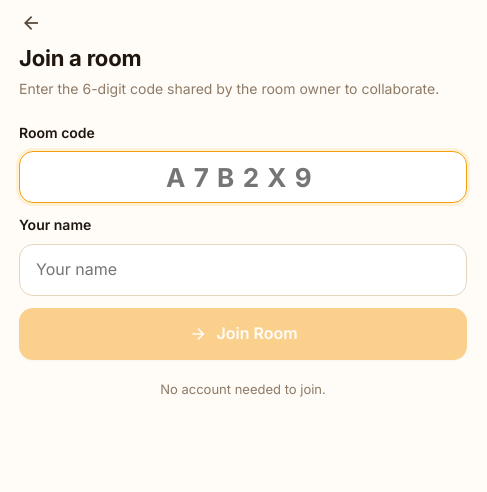
it: Anda MVP journey (§57) › rejects an unknown room code with plain copy, never a raw error (§14, §39)
Type "ZZZZZZ" into the field labelled "Room code" at x=243, y=178, box [19,152,467,204]
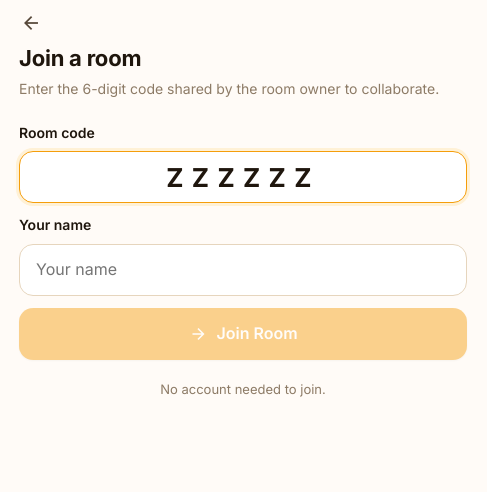
Type "Nobody" into the field labelled "Your name" at x=243, y=270, box [19,244,467,296]
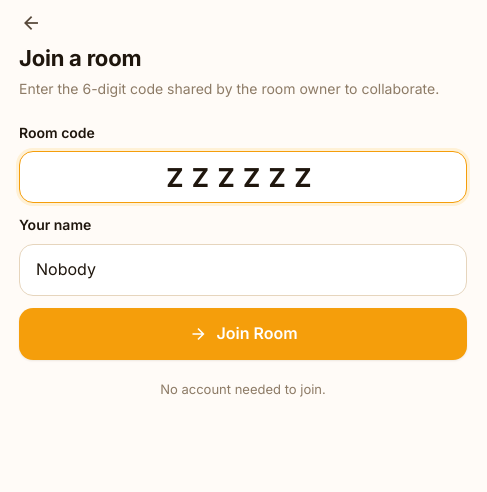
Click the button "Join Room" at x=243, y=334, box [19,308,467,360]
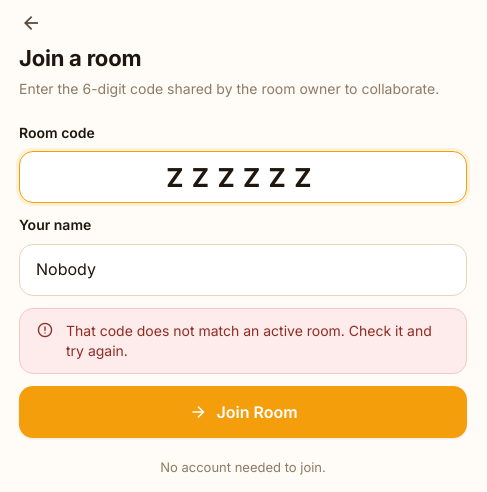
Expected: the text "does not match an active room" is shown, [66,322,432,359]
